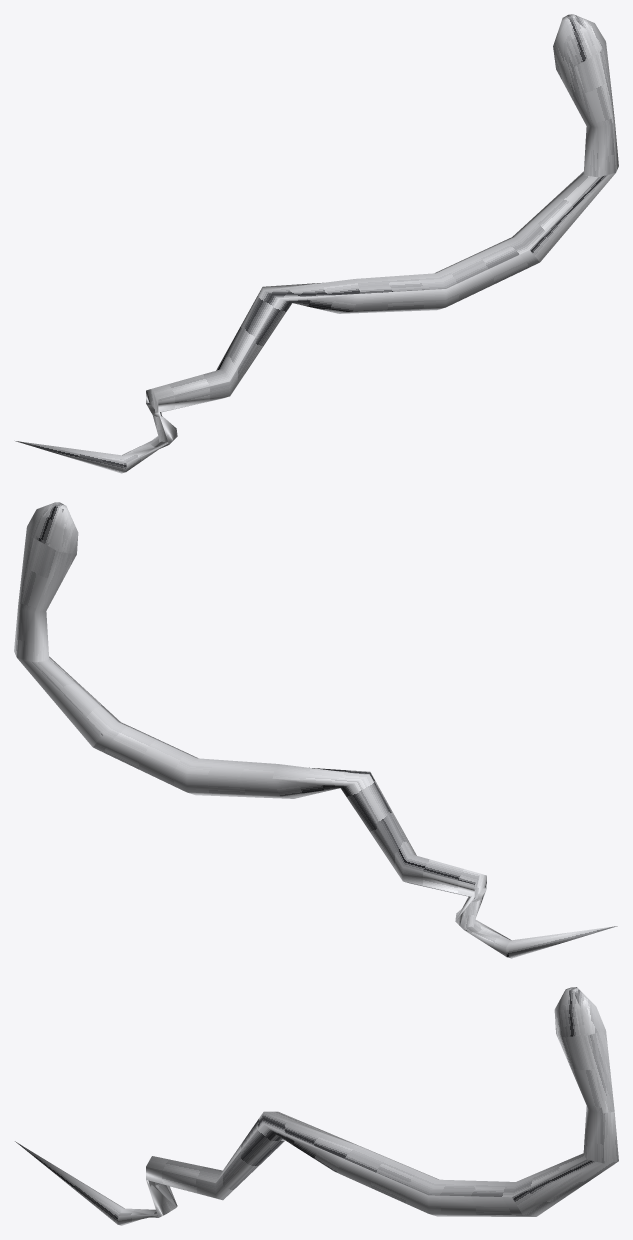
The model's file is snake_000017.obj.
3 views of the same model, one above another, from view 1: azimuth 30°, elevation 25°; view 2: azimuth 150°, elevation 25°; view 3: azimuth 330°, elevation 25° (orthographic).
Parts seen in each view (by area): view 1: Cylinder; view 2: Cylinder; view 3: Cylinder.
Part boxes in pixels (left/top/right/bottom): Cylinder: left=15, top=14, right=618, bottom=473; Cylinder: left=14, top=502, right=617, bottom=958; Cylinder: left=15, top=987, right=618, bottom=1225.
Size of the model in its own units: 7.26 by 3.98 by 0.3671.
